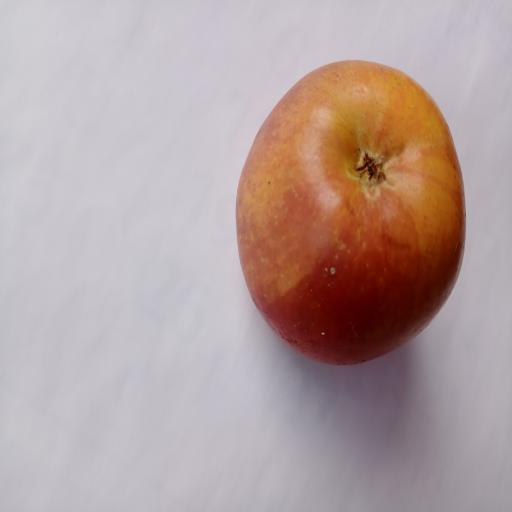apple-ripe: (219, 47, 481, 387)
